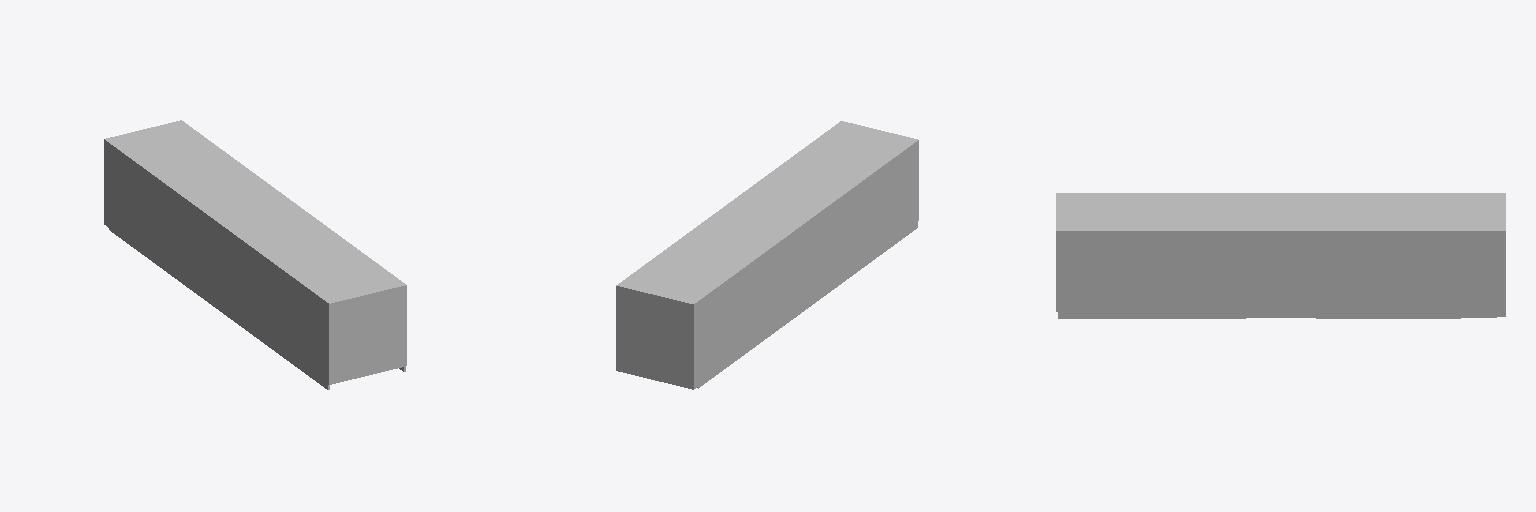
Rendered from hjc6112e.obj.
3 renders of one model, left to right at view 1: azimuth 30°, elevation 25°; view 2: azimuth 150°, elevation 25°; view 3: azimuth 270°, elevation 25°, orthographic.
Visible parts, largest first — view 1: leftWall, top, back, topBarOutLeft, front, DBack; view 2: leftWall, top, front, topBarOutLeft, DFront; view 3: top, rightWall2, rightWall1, topBarOutRight, door1, rightDoor, leftDoor, front, DSide1.
Part boxes in pixels (left/top/right/bottom): leftWall: left=109, top=157, right=329, bottom=389; top: left=111, top=124, right=403, bottom=302; back: left=328, top=284, right=406, bottom=384; topBarOutLeft: left=109, top=142, right=329, bottom=316; front: left=104, top=120, right=185, bottom=227; DBack: left=332, top=292, right=405, bottom=319; leftWall: left=697, top=155, right=917, bottom=388; top: left=623, top=122, right=914, bottom=300; front: left=616, top=283, right=697, bottom=389; topBarOutLeft: left=697, top=140, right=917, bottom=314; DFront: left=618, top=292, right=691, bottom=319; top: left=1058, top=194, right=1496, bottom=229; rightWall2: left=1058, top=245, right=1245, bottom=318; rightWall1: left=1316, top=245, right=1460, bottom=318; topBarOutRight: left=1058, top=230, right=1496, bottom=244; door1: left=1461, top=245, right=1496, bottom=317; rightDoor: left=1246, top=245, right=1281, bottom=317; leftDoor: left=1282, top=245, right=1315, bottom=317; front: left=1497, top=193, right=1505, bottom=316; DSide1: left=1392, top=286, right=1447, bottom=297.
Size of the model in its own units: 2.51 by 2.69 by 12.62.